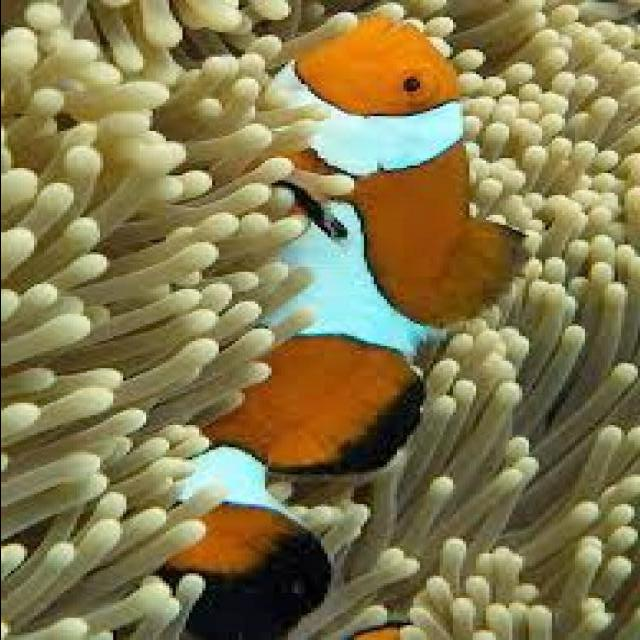ClownFish: (168, 16, 526, 626)
